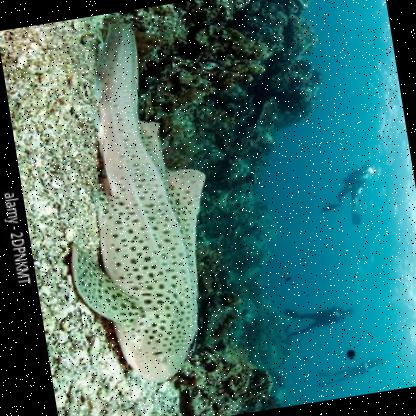zebra_shark: (28, 7, 254, 398)
